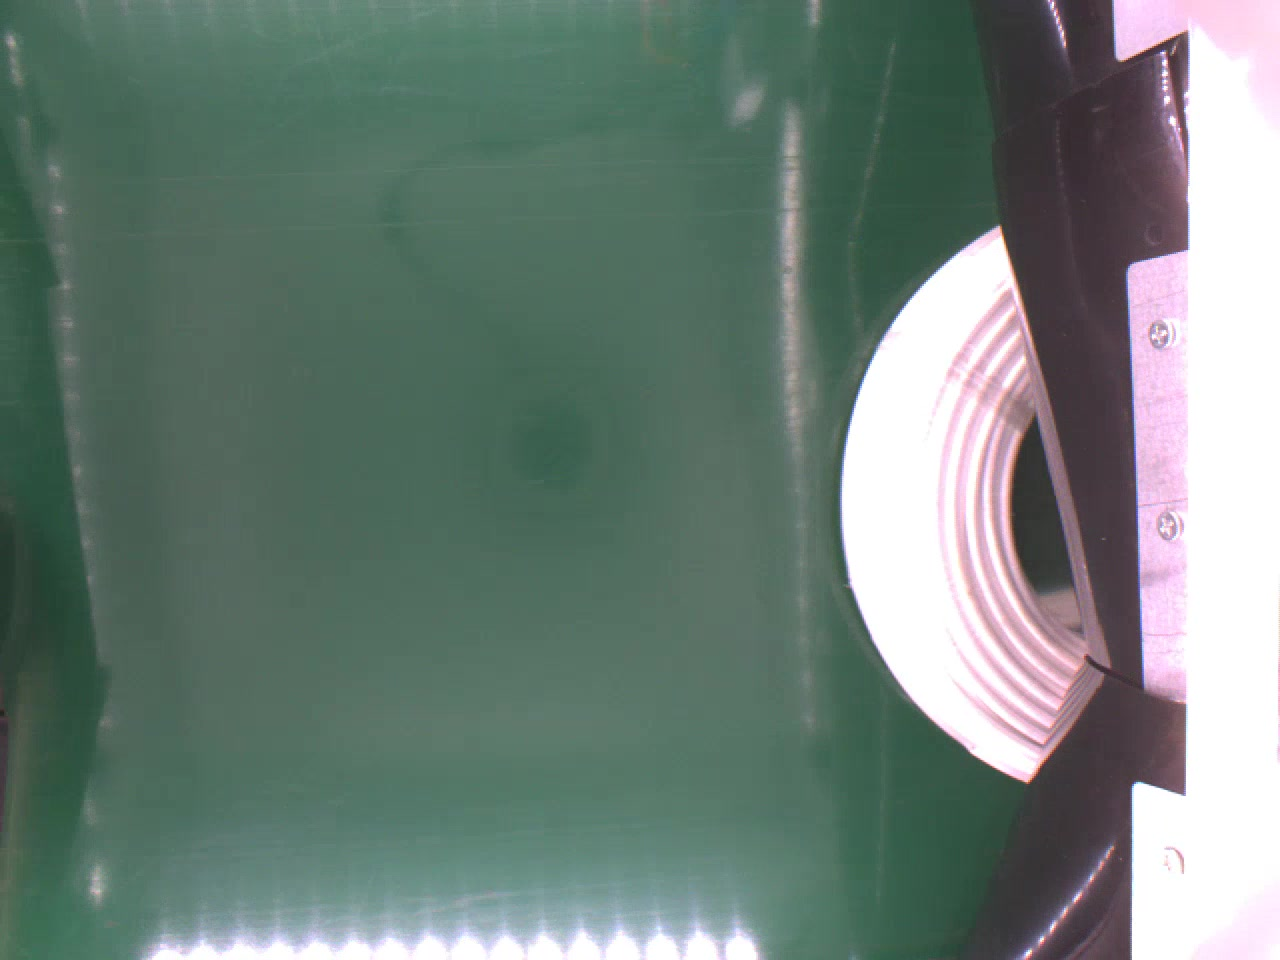white: (831, 221, 1089, 786)
